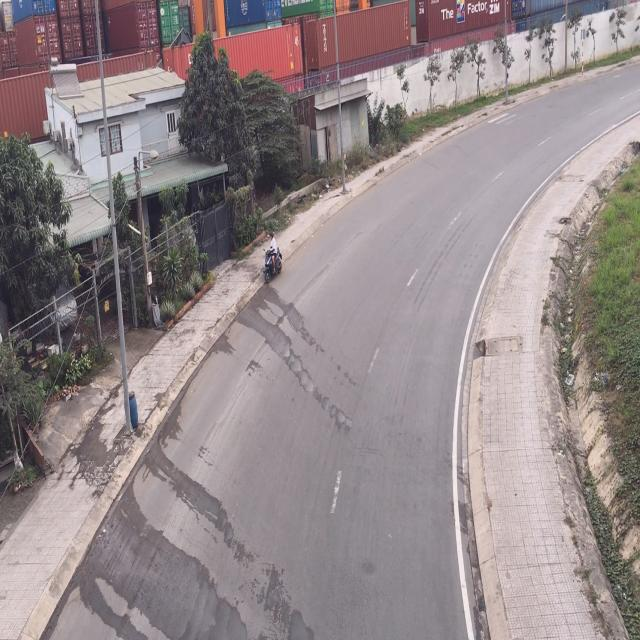motorbike: (266, 234, 284, 284)
